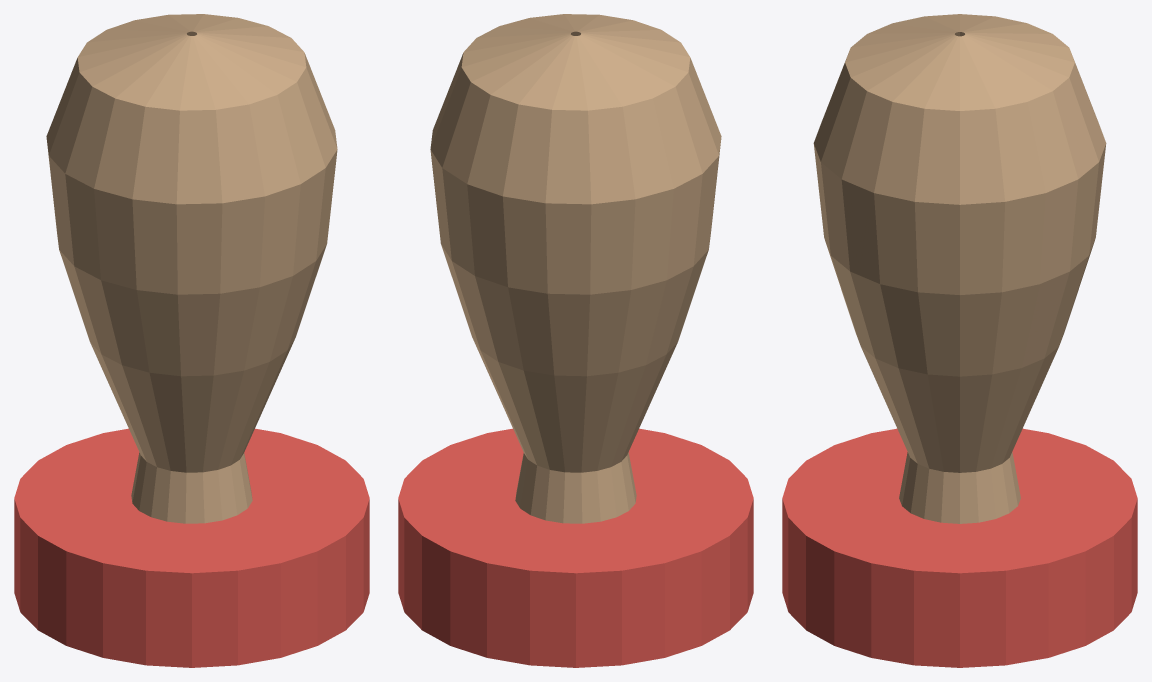
The model's file is item_51_stamp_seal.glb.
3 views of the same model, side by side, from view 1: azimuth 30°, elevation 25°; view 2: azimuth 150°, elevation 25°; view 3: azimuth 270°, elevation 25° (orthographic).
Parts seen in each view (by area): view 1: I51_Stamp, I51_Paste; view 2: I51_Stamp, I51_Paste; view 3: I51_Stamp, I51_Paste.
Boxes of the visible parts, x1,y1,x2,y2 form: I51_Stamp: [46, 14, 337, 523]; I51_Paste: [14, 428, 369, 667]; I51_Stamp: [430, 14, 721, 523]; I51_Paste: [398, 428, 753, 667]; I51_Stamp: [813, 14, 1106, 523]; I51_Paste: [782, 428, 1137, 667].
Size of the model in its own units: 0.068 by 0.118 by 0.068.
